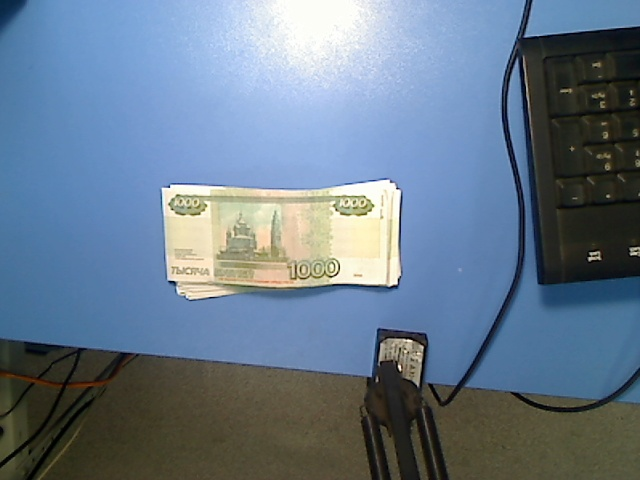banknotes: (157, 176, 406, 304)
